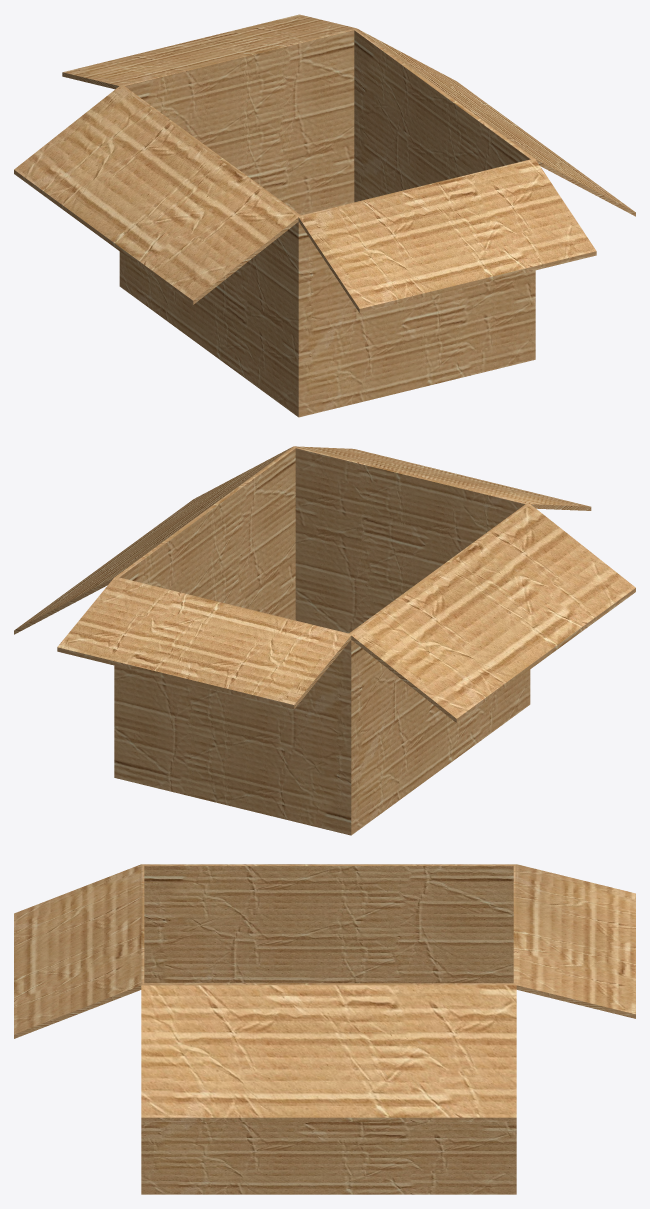
The model's file is cardboardbox2.fbx.
3 renders of one model, top to bottom at view 1: azimuth 30°, elevation 25°; view 2: azimuth 150°, elevation 25°; view 3: azimuth 270°, elevation 25°, orthographic. The views are drawn at different scales.
Parts seen in each view (by area): view 1: cardboardbox2; view 2: cardboardbox2; view 3: cardboardbox2.
Part boxes in pixels (left/top/right/bottom): cardboardbox2: left=14, top=14, right=635, bottom=417; cardboardbox2: left=14, top=446, right=635, bottom=835; cardboardbox2: left=14, top=864, right=635, bottom=1194.
Size of the model in its own units: 168 by 72.54 by 195.
Materials: 1 (1 with a texture image).
